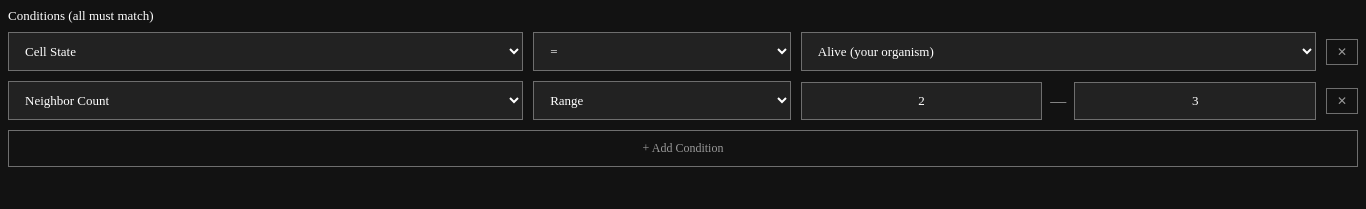
Test: ConditionsEditor › a value edit round-trips and moves no focus
Step 1. Type "1" into the field named "Condition 2 minimum" → (922, 100), box [801,82,1042,120]
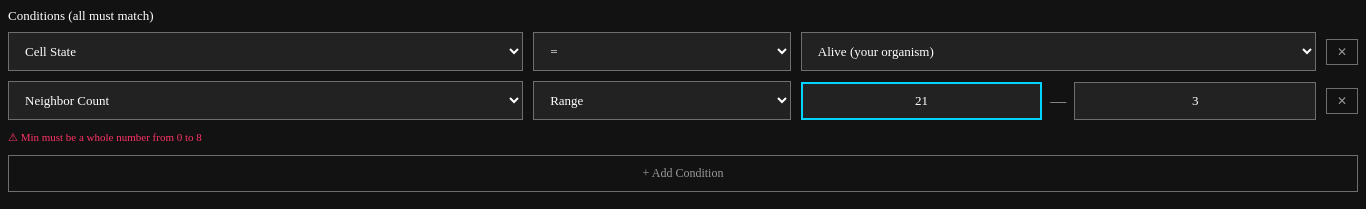
Check: the field named "Condition 2 minimum" holds "21", box [801,82,1042,120]
